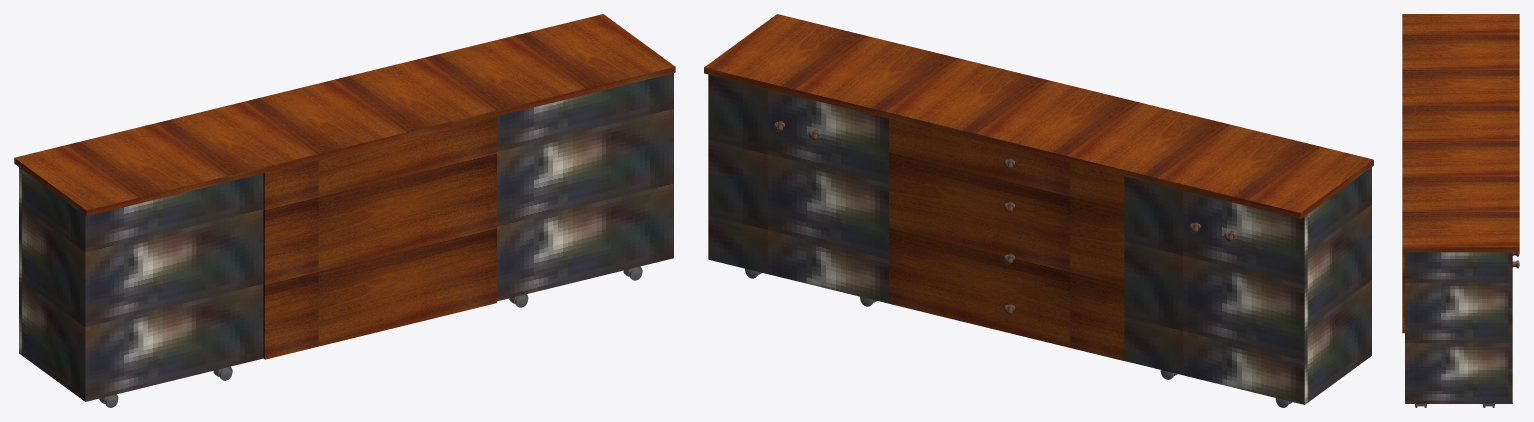
The picture shows the model from 3 angles, left to right: view 1: azimuth 30°, elevation 25°; view 2: azimuth 150°, elevation 25°; view 3: azimuth 270°, elevation 25°; orthographic projection. The views are drawn at different scales.
Parts seen in each view (by area): view 1: mesh10_mesh10-geometry, mesh6_mesh6-geometry, mesh1_mesh1-geometry, mesh34_mesh34-geometry; view 2: mesh55_mesh55-geometry, mesh6_mesh6-geometry, mesh4_mesh4-geometry, mesh10_mesh10-geometry, mesh8_mesh8-geometry; view 3: mesh6_mesh6-geometry, mesh10_mesh10-geometry, mesh55_mesh55-geometry, mesh1_mesh1-geometry.
Boxes of the visible parts, box(x1,y1,x2,y2) form: mesh10_mesh10-geometry: box(22, 73, 673, 401); mesh6_mesh6-geometry: box(14, 14, 675, 216); mesh1_mesh1-geometry: box(263, 116, 496, 359); mesh34_mesh34-geometry: box(101, 267, 642, 407); mesh55_mesh55-geometry: box(708, 74, 1307, 404); mesh6_mesh6-geometry: box(704, 14, 1373, 218); mesh4_mesh4-geometry: box(889, 118, 1124, 360); mesh10_mesh10-geometry: box(1307, 167, 1371, 402); mesh8_mesh8-geometry: box(773, 121, 1235, 314); mesh6_mesh6-geometry: box(1402, 14, 1519, 252); mesh10_mesh10-geometry: box(1405, 252, 1508, 403); mesh55_mesh55-geometry: box(1508, 252, 1512, 403); mesh1_mesh1-geometry: box(1402, 252, 1404, 333).
Size of the model in its own units: 0.9271 by 0.319 by 0.1969.
